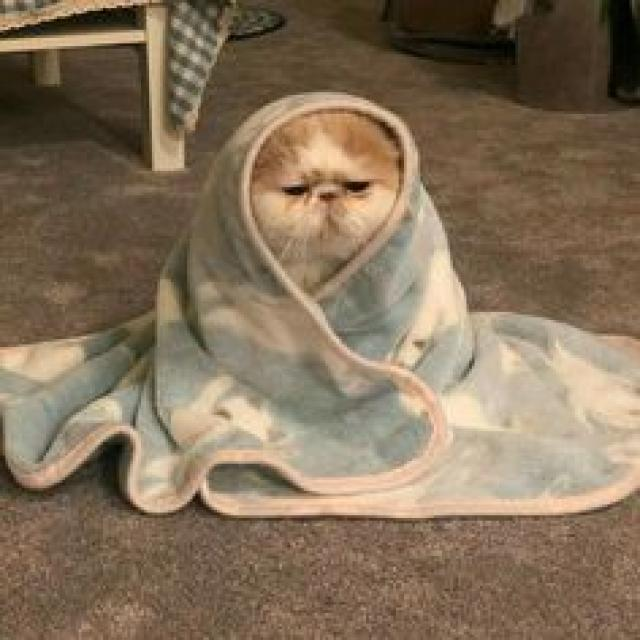Sad: (247, 136, 398, 248)
